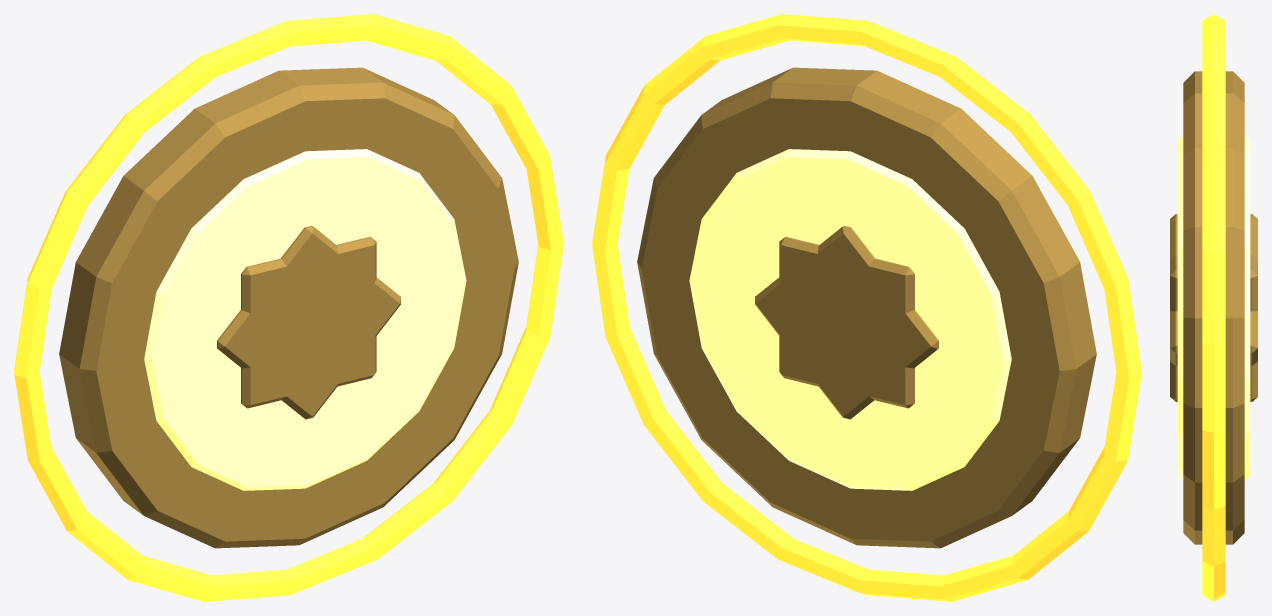
The model's file is trail_coin.glb.
The picture shows the model from 3 angles, left to right: view 1: azimuth 30°, elevation 25°; view 2: azimuth 150°, elevation 25°; view 3: azimuth 270°, elevation 25°; orthographic projection. The views are drawn at different scales.
Visible parts, largest first — view 1: trail_coin; view 2: trail_coin; view 3: trail_coin.
Boxes of the visible parts, x1,y1,x2,y2 form: trail_coin: (14,14,563,601); trail_coin: (592,14,1141,601); trail_coin: (1170,14,1257,601).
Bounding box in the file's own units: 1.55 × 1.55 × 0.23.
1 material, 1 textured.
